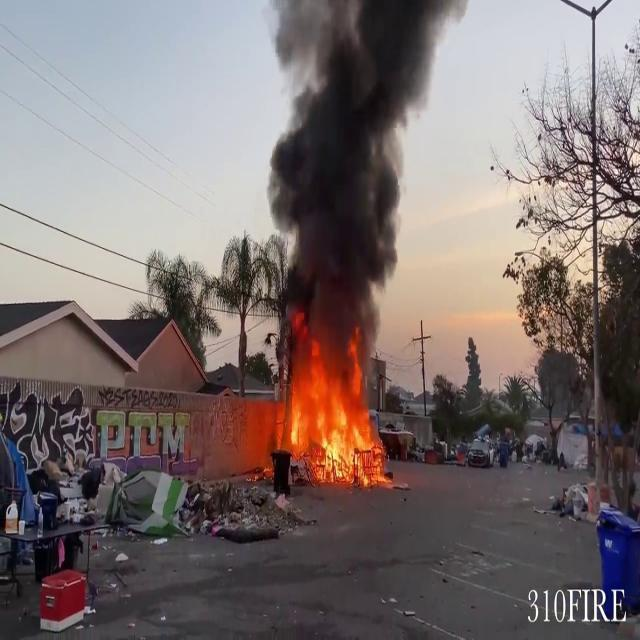Fire: (266, 340, 388, 486)
Smoke: (260, 0, 440, 340)
